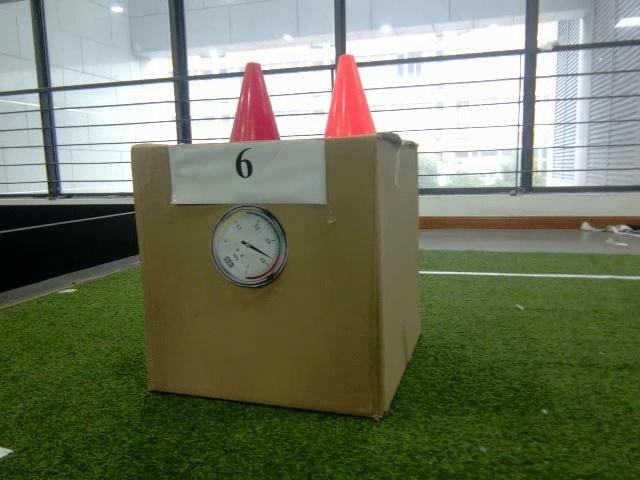6: (232, 145, 254, 180)
Dashboard: (211, 204, 288, 290)
orange_barrel: (322, 50, 380, 138)
red_barrel: (228, 60, 280, 144)
ssi: (221, 254, 234, 270)
